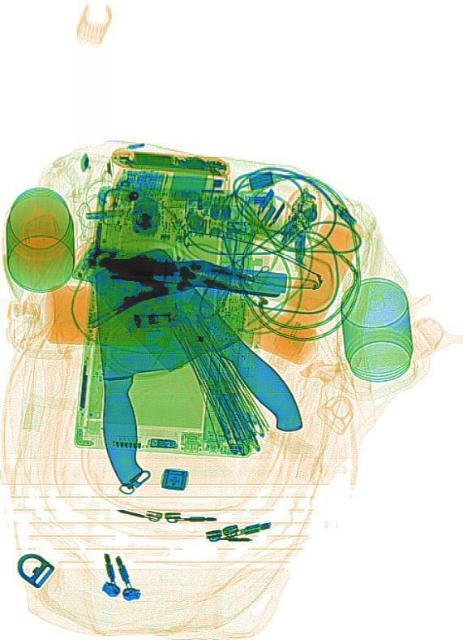Knife: (85, 210, 310, 484), (93, 252, 187, 486)
